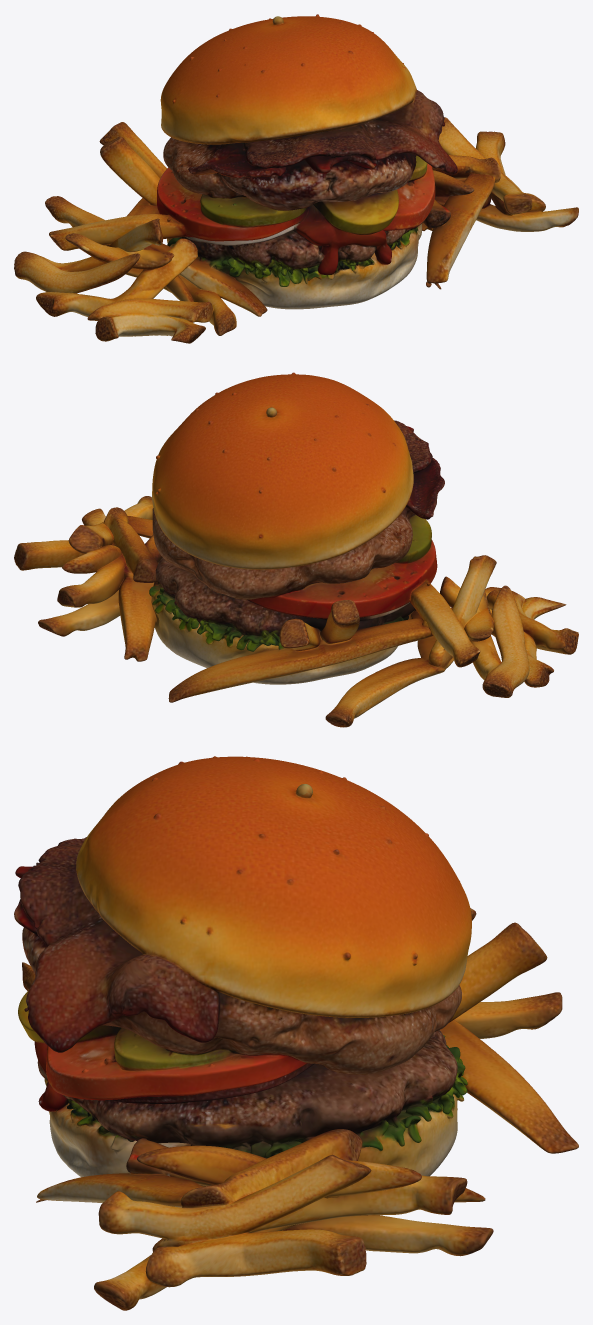
The model's file is rock+3d+model.glb.
3 renders of one model, top to bottom at view 1: azimuth 30°, elevation 25°; view 2: azimuth 150°, elevation 25°; view 3: azimuth 270°, elevation 25°, orthographic. The views are drawn at different scales.
Visible parts, largest first — view 1: tripo_node_d223ce26-11e1-4e73-b54a-eca599413d6e; view 2: tripo_node_d223ce26-11e1-4e73-b54a-eca599413d6e; view 3: tripo_node_d223ce26-11e1-4e73-b54a-eca599413d6e.
Part boxes in pixels (x1,y1,x2,y2): tripo_node_d223ce26-11e1-4e73-b54a-eca599413d6e: (14, 14, 578, 343); tripo_node_d223ce26-11e1-4e73-b54a-eca599413d6e: (14, 372, 578, 727); tripo_node_d223ce26-11e1-4e73-b54a-eca599413d6e: (14, 756, 578, 1310).
Size of the model in its own units: 0.9815 by 0.4442 by 0.62.
1 material, 1 textured.
